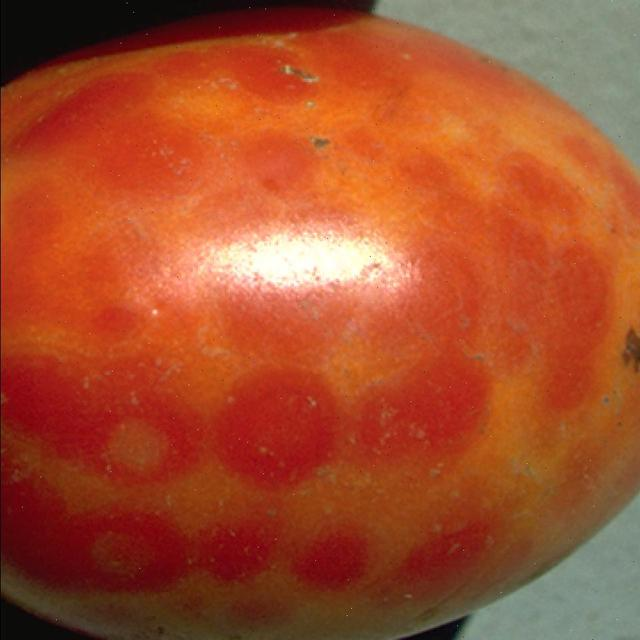Spotted wilt Virus Fruit: (232, 80, 621, 157)
